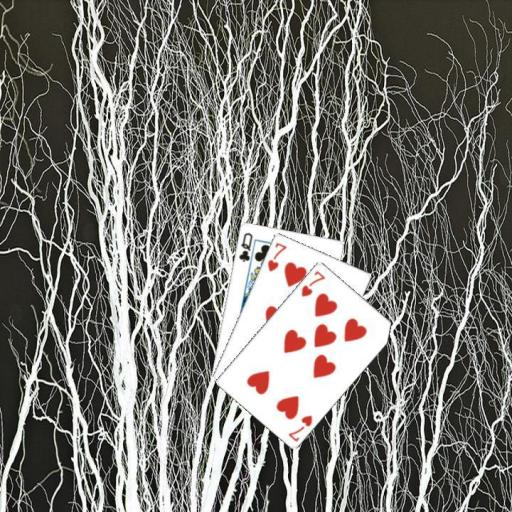7H: (285, 412, 314, 443), (298, 267, 326, 298), (265, 239, 288, 273)
QC: (235, 229, 254, 263)
